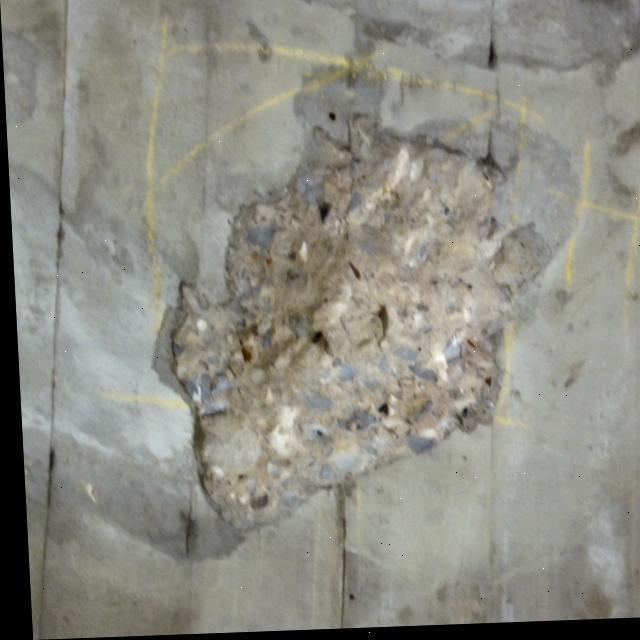D10: (150, 98, 553, 517)
